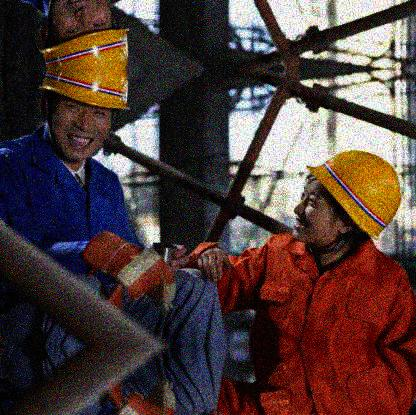helmet: (292, 151, 400, 241), (37, 71, 131, 157), (37, 1, 130, 72)
